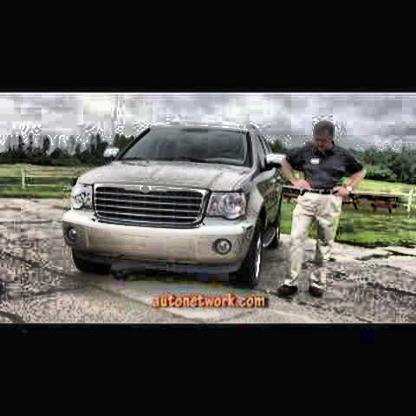Chrysler Aspen SUV 2009: (65, 121, 287, 289)
